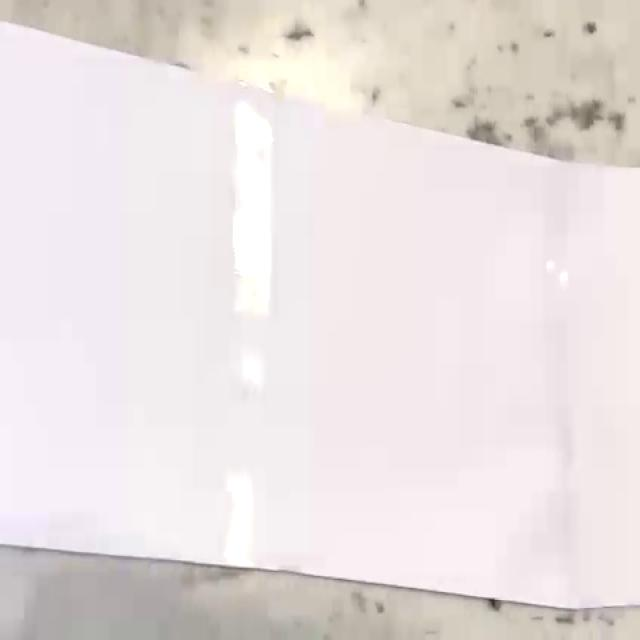road: (0, 23, 640, 608)
